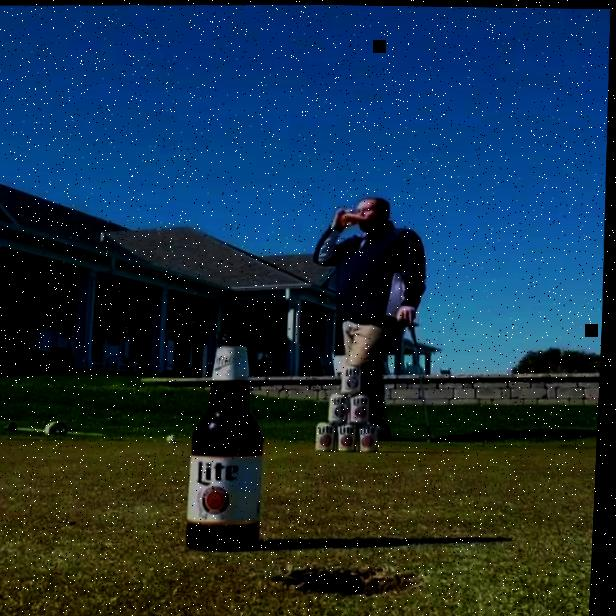ClubHead: (409, 320, 422, 326)
GolfBall: (171, 433, 181, 441)
